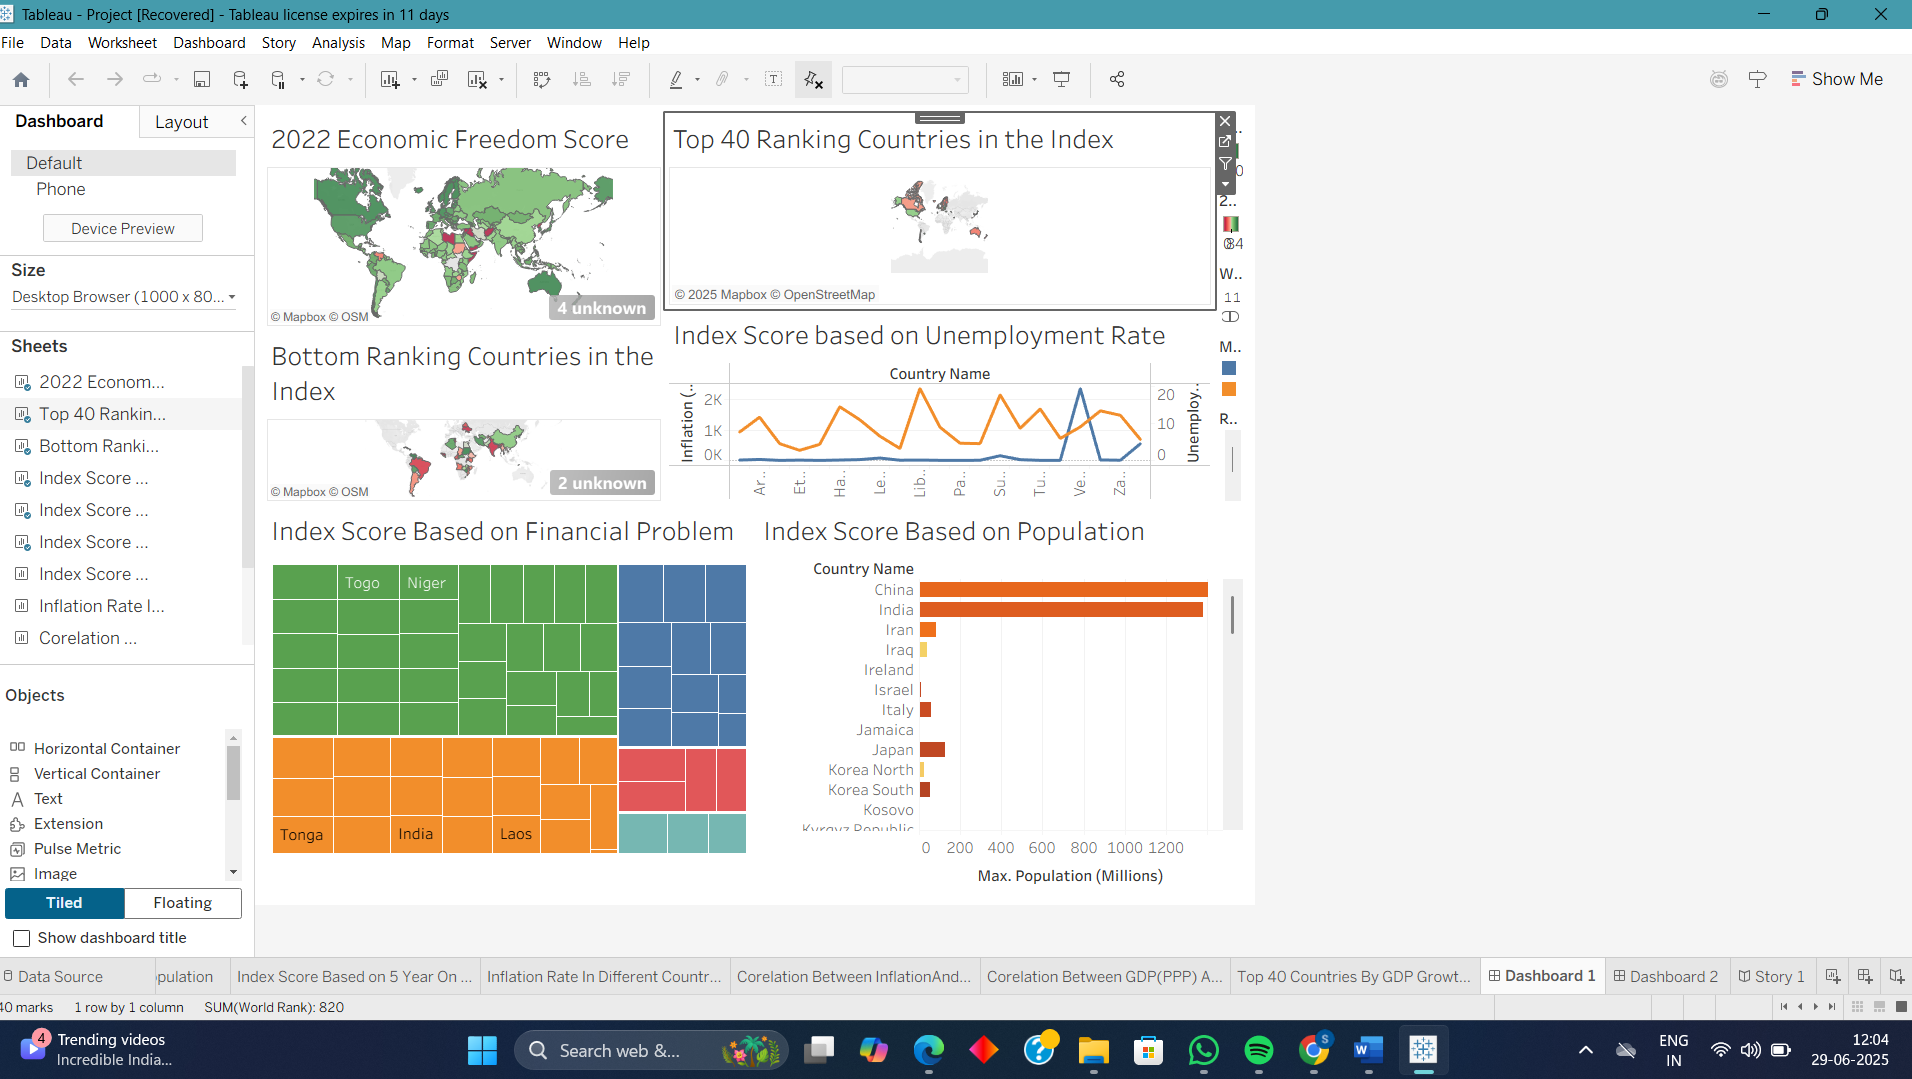

The dashboard page shown, as its layout file describes it:
{"tool":"tableau","page":{"name":"Dashboard 1","canvas":[1000,800],"ordinal":0},"visuals":[{"type":"worksheet","title":"2022 Economic Freedom Score","mark":"Automatic","box":[8,8,402,216.5]},{"type":"worksheet","title":"Top 40 Ranking Countries in the Index","mark":"Automatic","box":[410,8,550,196]},{"type":"legend","title":"Top 40 Ranking Countries in the Index","param":"[federated.0me96kp1oxqt5f1fq1sfs1ern03u].[sum:World Rank:qk]","box":[960,8,32,73]},{"type":"legend","title":"2022 Economic Freedom Score","param":"[federated.0me96kp1oxqt5f1fq1sfs1ern03u].[sum:2022 Score:qk]","box":[960,81,32,73]},{"type":"filter","title":"Bottom Ranking Countries in the Index","param":"[federated.0me96kp1oxqt5f1fq1sfs1ern03u].[none:World Rank:qk]","box":[960,154,32,73]},{"type":"worksheet","title":"Index Score based on Unemployment Rate","mark":"Line","rows":["Inflation (%)","Unemployment (%)"],"cols":["Country Name"],"box":[410,204,550,196]},{"type":"worksheet","title":"Bottom Ranking Countries in the Index","mark":"Automatic","box":[8,224.5,402,175.5]},{"type":"legend","title":"Index Score based on Unemployment Rate","param":"[federated.0me96kp1oxqt5f1fq1sfs1ern03u].[:Measure Names]","box":[960,227,32,72]},{"type":"legend","title":"Index Score Based on Financial Problem","param":"[federated.0me96kp1oxqt5f1fq1sfs1ern03u].[none:Region:nk]","box":[960,299,32,101]},{"type":"worksheet","title":"Index Score Based on Financial Problem","mark":"Automatic","box":[8,400,492,392]},{"type":"worksheet","title":"Index Score Based on Population","mark":"Bar","rows":["Country Name"],"cols":["Population (Millions)"],"box":[500,400,492,392]}]}

Visuals, with their boxes on the page's 1000x800 design canvas (x1, y1, x2, y2). These are canvas units, not pixel positions in the 1912x1079 screenshot, which may show the page scaled, cropped or inside an application window:
"2022 Economic Freedom Score" worksheet: BBox(8, 8, 410, 224)
"Top 40 Ranking Countries in the Index" worksheet: BBox(410, 8, 960, 204)
"Top 40 Ranking Countries in the Index" legend: BBox(960, 8, 992, 81)
"2022 Economic Freedom Score" legend: BBox(960, 81, 992, 154)
"Bottom Ranking Countries in the Index" filter: BBox(960, 154, 992, 227)
"Index Score based on Unemployment Rate" worksheet (Line marks): BBox(410, 204, 960, 400)
"Bottom Ranking Countries in the Index" worksheet: BBox(8, 224, 410, 400)
"Index Score based on Unemployment Rate" legend: BBox(960, 227, 992, 299)
"Index Score Based on Financial Problem" legend: BBox(960, 299, 992, 400)
"Index Score Based on Financial Problem" worksheet: BBox(8, 400, 500, 792)
"Index Score Based on Population" worksheet (Bar marks): BBox(500, 400, 992, 792)
